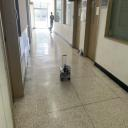cart: (59, 67, 71, 82)
